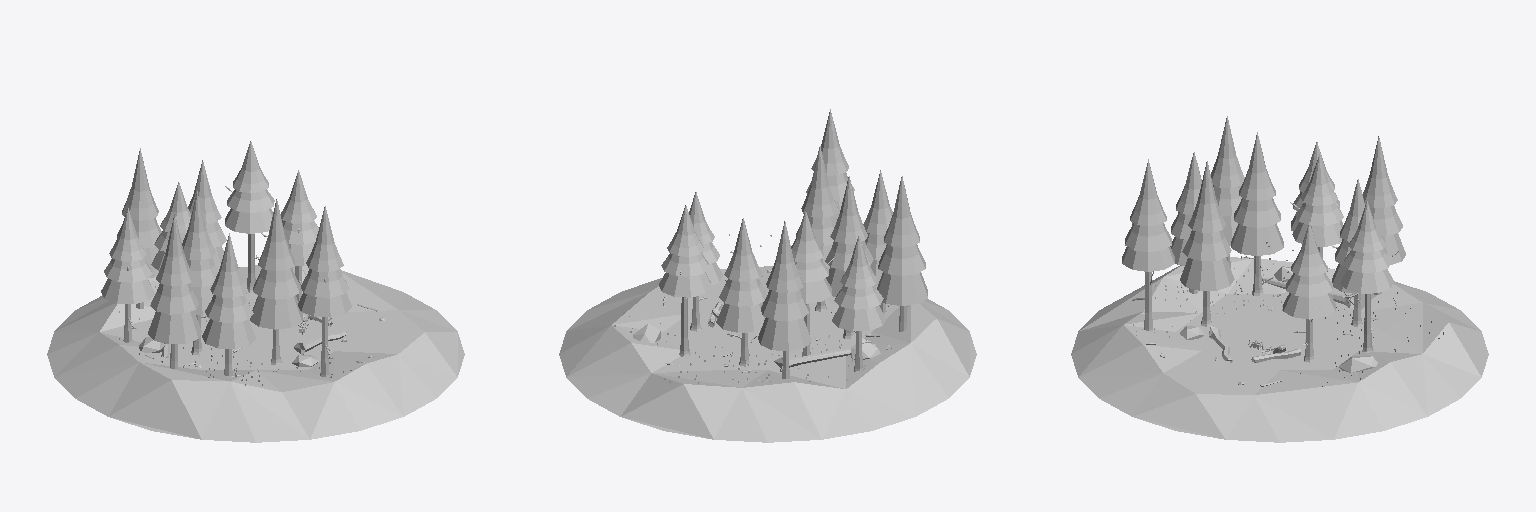
The model's file is camp.obj.
3 views of the same model, side by side, from view 1: azimuth 30°, elevation 25°; view 2: azimuth 150°, elevation 25°; view 3: azimuth 270°, elevation 25° (orthographic).
Parts seen in each view (by area): view 1: pDisc1_lambert3_0, polySurface130_lambert6_0, polySurface119_lambert6_0, polySurface132_lambert6_0, polySurface121_lambert6_0, polySurface100_lambert6_0, polySurface104_lambert6_0, polySurface128_lambert6_0, polySurface118_lambert6_0, polySurface106_lambert6_0, polySurface120_lambert6_0, polySurface131_lambert6_0 (+16 smaller); view 2: pDisc1_lambert3_0, polySurface98_lambert6_0, polySurface130_lambert6_0, polySurface132_lambert6_0, polySurface100_lambert6_0, polySurface121_lambert6_0, polySurface118_lambert6_0, polySurface131_lambert6_0, polySurface147_lambert6_0, polySurface99_lambert6_0, polySurface145_lambert6_0, polySurface152_lambert6_0 (+16 smaller); view 3: pDisc1_lambert3_0, polySurface119_lambert6_0, polySurface116_lambert6_0, polySurface121_lambert6_0, polySurface132_lambert6_0, polySurface100_lambert6_0, polySurface118_lambert6_0, polySurface128_lambert6_0, polySurface120_lambert6_0, polySurface117_lambert6_0, pCube6_lambert7_0, polySurface127_lambert6_0 (+14 smaller).
Boxes of the visible parts, <box> form: pDisc1_lambert3_0: <box>47,265,464,442</box>; polySurface130_lambert6_0: <box>148,311,201,343</box>; polySurface119_lambert6_0: <box>250,295,302,329</box>; polySurface132_lambert6_0: <box>156,214,193,285</box>; polySurface121_lambert6_0: <box>258,199,294,270</box>; polySurface100_lambert6_0: <box>122,148,158,220</box>; polySurface104_lambert6_0: <box>202,319,256,348</box>; polySurface128_lambert6_0: <box>306,206,343,271</box>; polySurface118_lambert6_0: <box>182,191,215,260</box>; polySurface106_lambert6_0: <box>210,233,247,297</box>; polySurface120_lambert6_0: <box>253,268,300,299</box>; polySurface131_lambert6_0: <box>150,283,198,314</box>; pDisc1_lambert3_0: <box>559,266,976,442</box>; polySurface98_lambert6_0: <box>758,317,811,350</box>; polySurface130_lambert6_0: <box>877,272,927,305</box>; polySurface132_lambert6_0: <box>884,176,919,247</box>; polySurface100_lambert6_0: <box>766,221,803,292</box>; polySurface121_lambert6_0: <box>801,146,838,217</box>; polySurface118_lambert6_0: <box>830,176,867,243</box>; polySurface131_lambert6_0: <box>878,244,925,275</box>; polySurface147_lambert6_0: <box>724,218,761,281</box>; polySurface99_lambert6_0: <box>761,290,808,321</box>; polySurface145_lambert6_0: <box>716,302,765,332</box>; polySurface152_lambert6_0: <box>832,306,885,330</box>; pDisc1_lambert3_0: <box>1071,257,1488,442</box>; polySurface119_lambert6_0: <box>1180,258,1234,290</box>; polySurface116_lambert6_0: <box>1231,223,1283,255</box>; polySurface121_lambert6_0: <box>1188,161,1225,232</box>; polySurface132_lambert6_0: <box>1211,116,1244,187</box>; polySurface100_lambert6_0: <box>1363,136,1397,207</box>; polySurface118_lambert6_0: <box>1239,132,1275,200</box>; polySurface128_lambert6_0: <box>1130,159,1166,226</box>; polySurface120_lambert6_0: <box>1182,230,1231,260</box>; polySurface117_lambert6_0: <box>1234,198,1280,227</box>; pCube6_lambert7_0: <box>1160,266,1377,384</box>; polySurface127_lambert6_0: <box>1125,223,1171,251</box>.
Size of the model in its own units: 29.97 by 15.6 by 29.97.